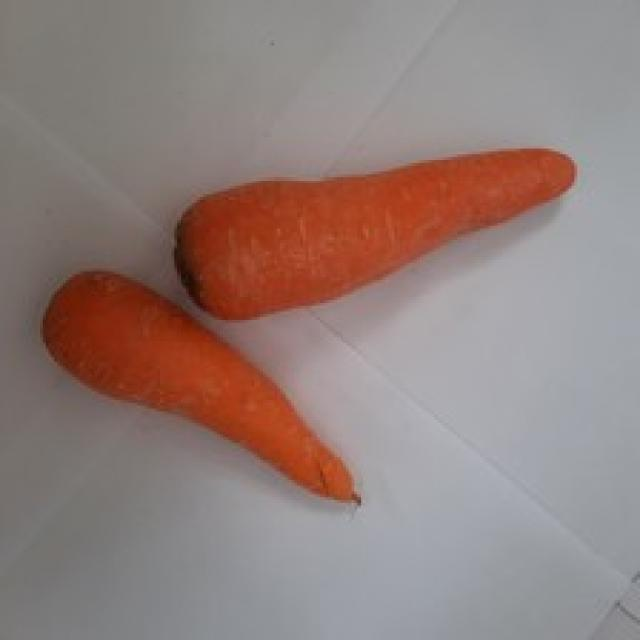Fresh_Carrot: (20, 153, 632, 493)
